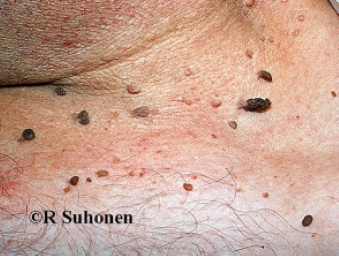seborrheic keratosis: (17, 55, 302, 169)
